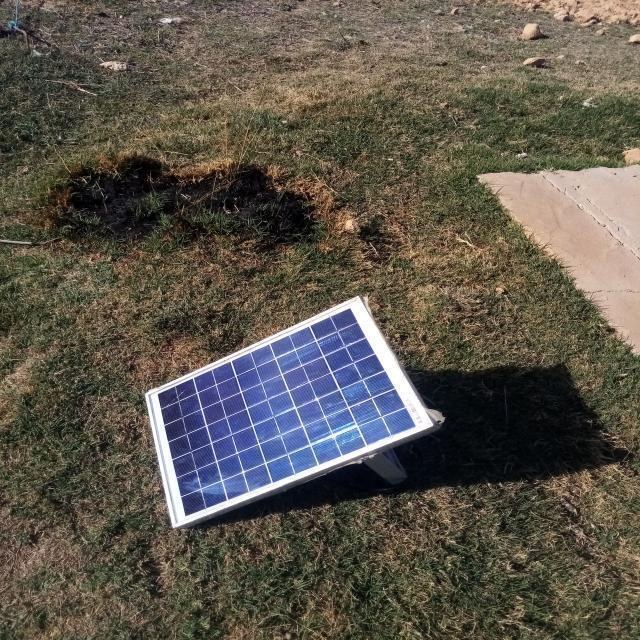Normal Solar Panel: (144, 295, 437, 528)
